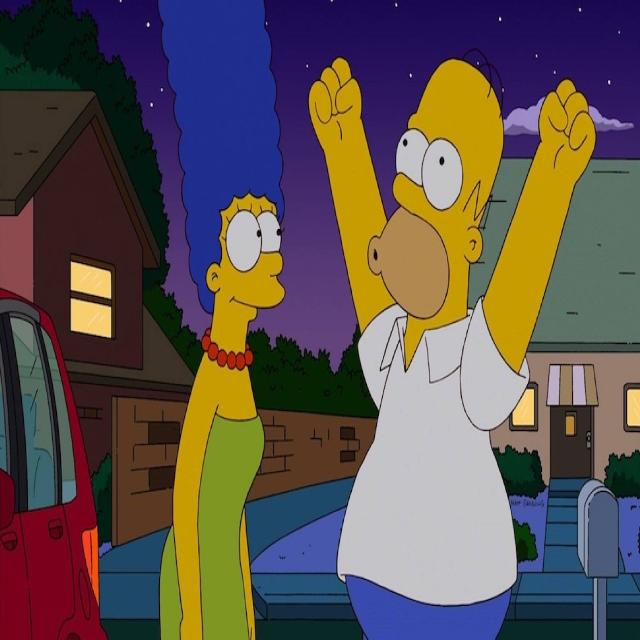Homer Simpson: (364, 44, 507, 365)
Marge Simpson: (156, 0, 288, 373)
